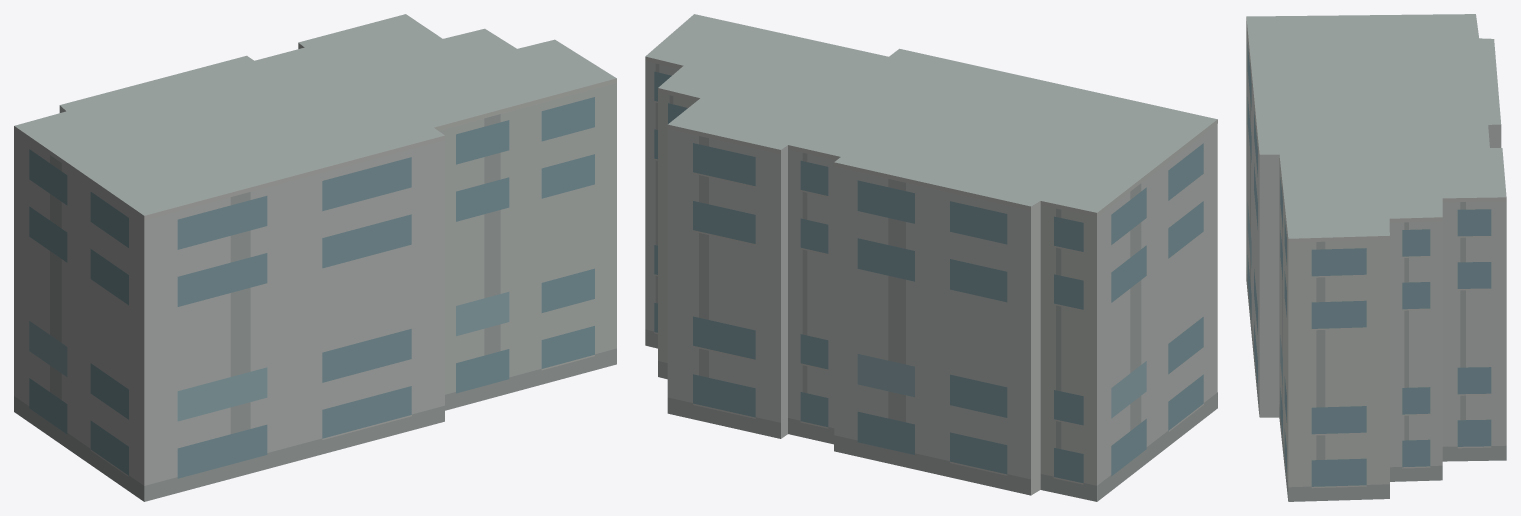
Rendered from survey-upis-32800766.glb.
The picture shows the model from 3 angles, left to right: view 1: azimuth 30°, elevation 25°; view 2: azimuth 150°, elevation 25°; view 3: azimuth 270°, elevation 25°; orthographic projection. The views are drawn at different scales.
Visible parts, largest first — view 1: survey-upis-32800766.tmp; view 2: survey-upis-32800766.tmp; view 3: survey-upis-32800766.tmp.
Part boxes in pixels (bbox=[...]): survey-upis-32800766.tmp: bbox=[14, 14, 616, 501]; survey-upis-32800766.tmp: bbox=[645, 14, 1217, 501]; survey-upis-32800766.tmp: bbox=[1246, 14, 1506, 501].
Bounding box in the file's own units: 29.39 × 16.04 × 14.38.
